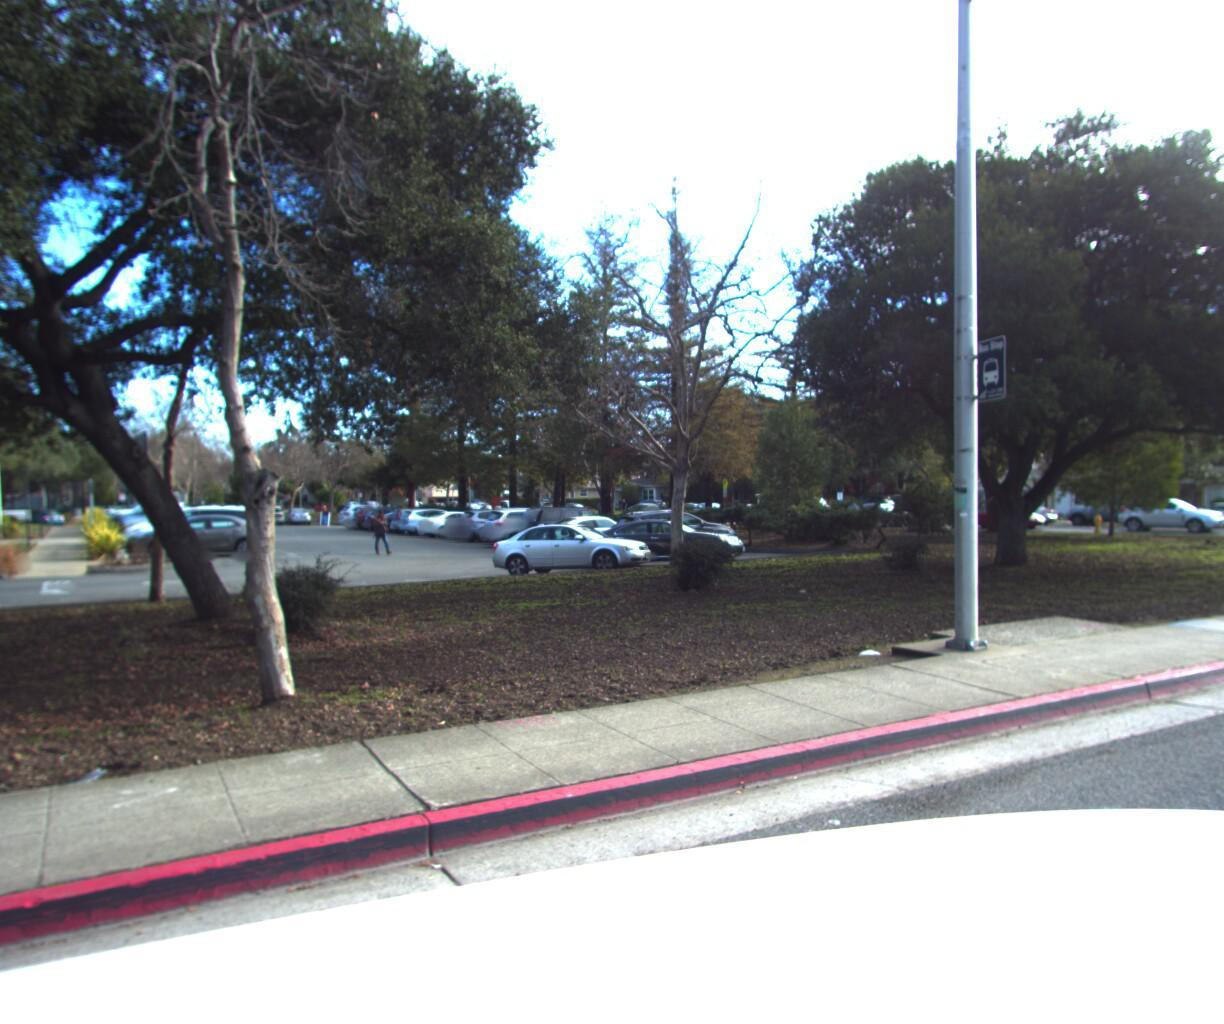car: (1115, 485, 1224, 531), (1064, 488, 1170, 527), (954, 496, 1059, 526), (982, 493, 1067, 522), (1184, 495, 1224, 527), (492, 490, 525, 510)
